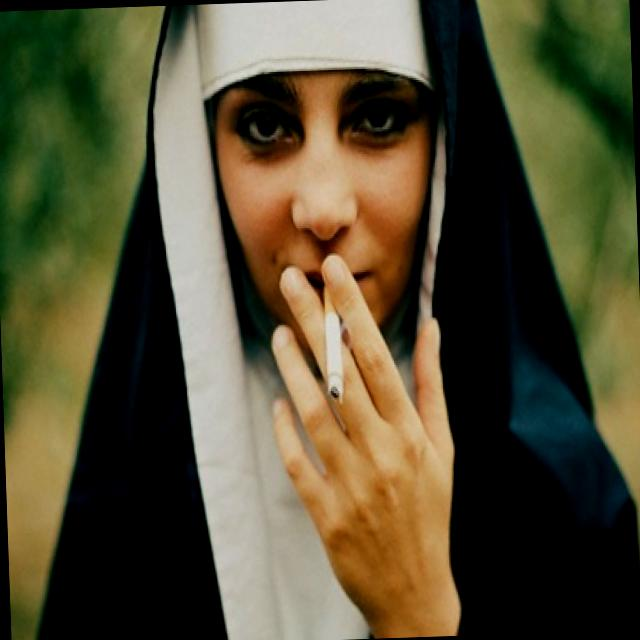smoke: (306, 262, 361, 413)
